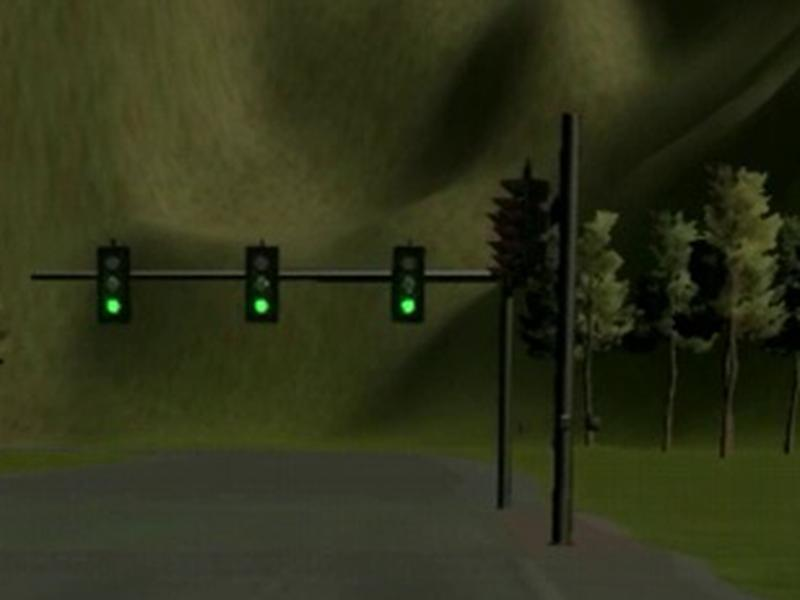Green: (96, 246, 131, 324), (390, 246, 425, 322), (245, 246, 279, 323)
